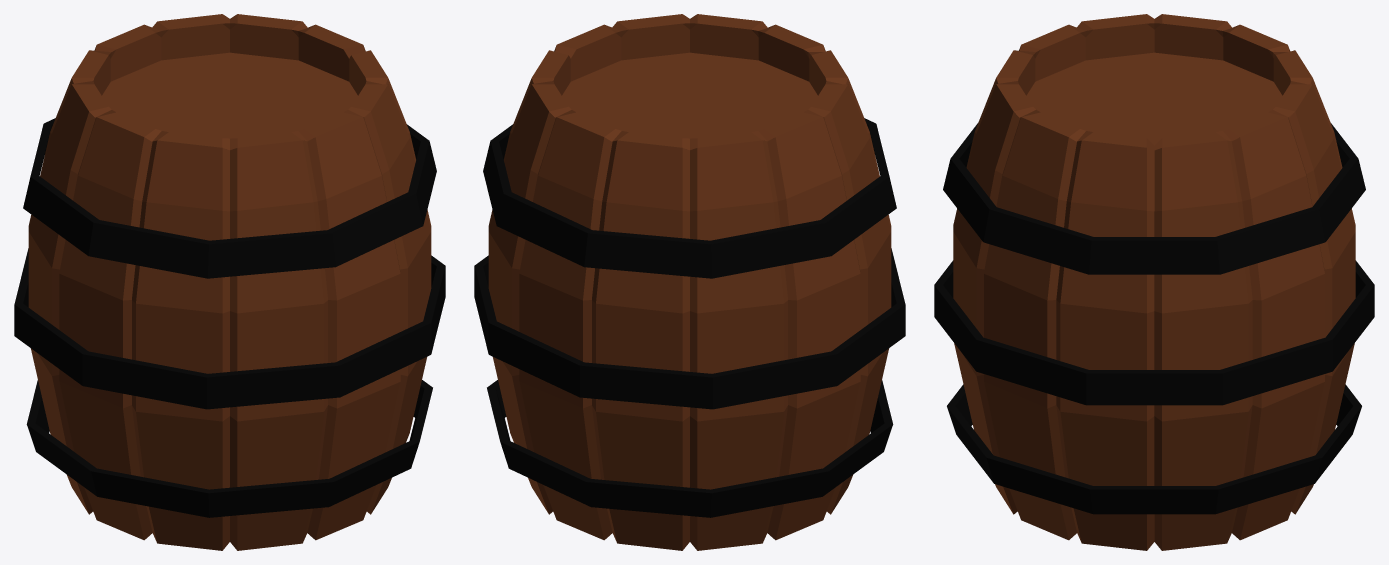
File: tonneau.glb
3 views of the same model, side by side, from view 1: azimuth 30°, elevation 25°; view 2: azimuth 150°, elevation 25°; view 3: azimuth 270°, elevation 25° (orthographic).
Parts seen in each view (by area): view 1: tonneau; view 2: tonneau; view 3: tonneau.
Boxes of the visible parts, x1,y1,x2,y2 form: tonneau: (14, 14, 445, 550); tonneau: (474, 14, 905, 550); tonneau: (934, 14, 1374, 550).
Size of the model in its own units: 5.44 by 5.78 by 5.72.
